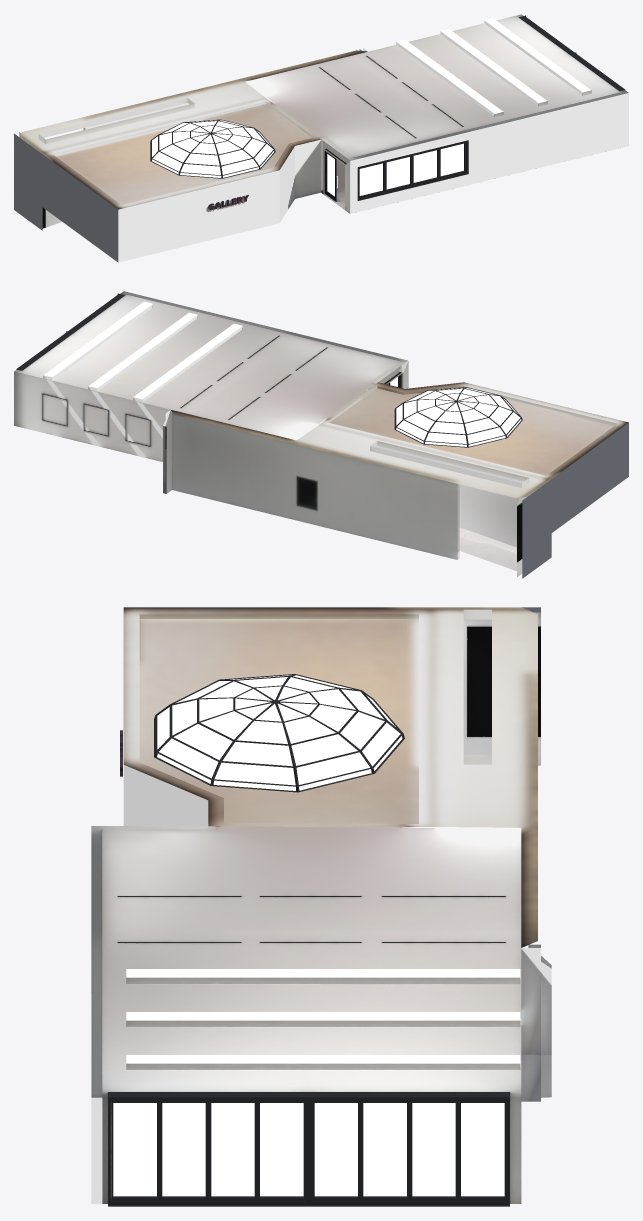
The model's file is art-gallery11.glb.
The picture shows the model from 3 angles, top to bottom: view 1: azimuth 30°, elevation 25°; view 2: azimuth 150°, elevation 25°; view 3: azimuth 270°, elevation 25°; orthographic projection. The views are drawn at different scales.
Visible parts, largest first — view 1: ParedesPrincipais, Paredes, Teto.001, Sphere.002, Metais, LuzesEmission, Chao_entrada; view 2: ParedesPrincipais, Paredes, Teto.001, Sphere.002, LuzesEmission, Chao_entrada, Metais; view 3: ParedesPrincipais, Teto.001, Metais, Sphere.002, Paredes, LuzesEmission.
Boxes of the visible parts, <box> form: ParedesPrincipais: <box>85,14,628,213</box>; Paredes: <box>14,48,367,262</box>; Teto.001: <box>19,50,367,209</box>; Sphere.002: <box>150,119,275,178</box>; Metais: <box>323,15,625,201</box>; LuzesEmission: <box>396,18,590,113</box>; Chao_entrada: <box>313,133,344,209</box>; ParedesPrincipais: <box>14,291,408,461</box>; Paredes: <box>163,366,628,578</box>; Teto.001: <box>171,382,628,497</box>; Sphere.002: <box>394,387,522,447</box>; LuzesEmission: <box>44,301,242,399</box>; Chao_entrada: <box>459,527,516,570</box>; Metais: <box>16,293,400,410</box>; ParedesPrincipais: <box>91,826,521,1203</box>; Teto.001: <box>123,607,537,947</box>; Metais: <box>108,896,509,1206</box>; Sphere.002: <box>154,674,404,792</box>; Paredes: <box>123,607,551,1101</box>; LuzesEmission: <box>126,969,520,1063</box>.
Bounding box in the file's own units: 62.24 × 11.01 × 24.59.
Materials: 12 (6 with a texture image).
